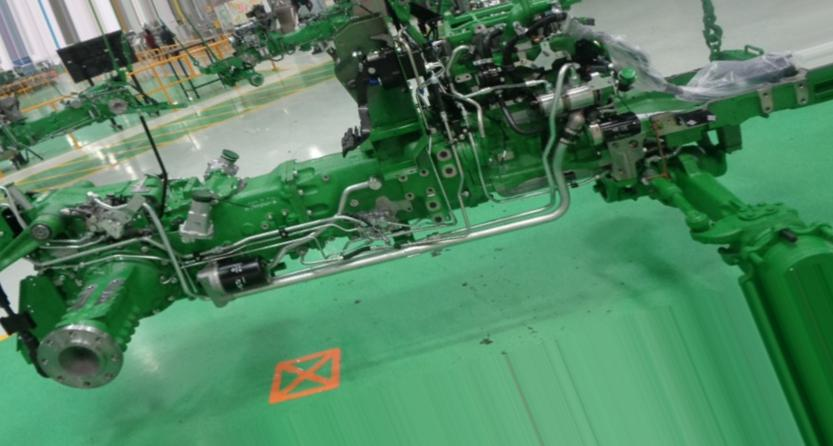engine: (0, 0, 825, 390)
